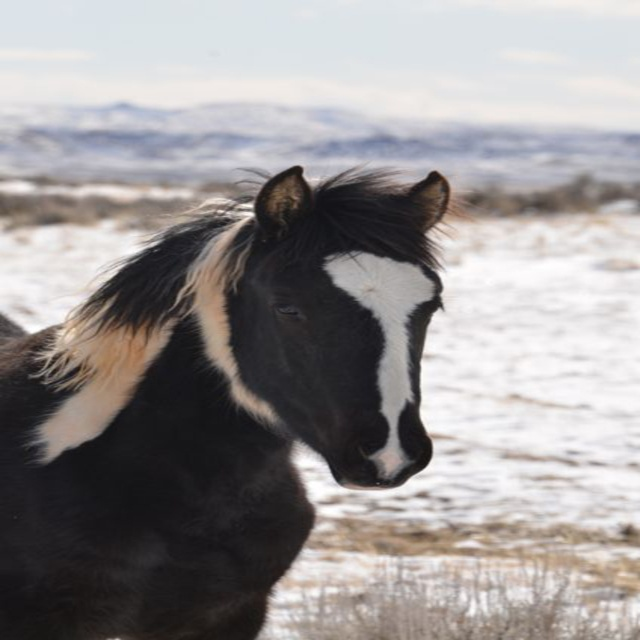Horse: (0, 164, 486, 639)
